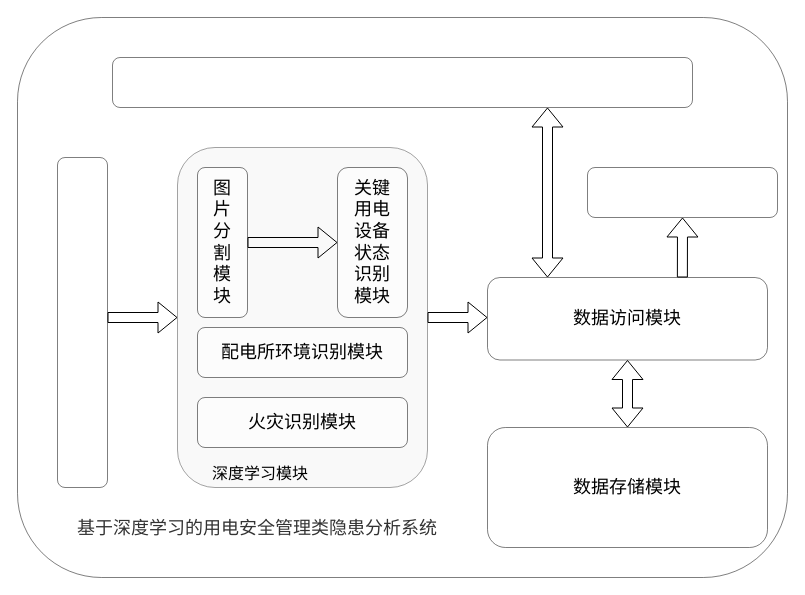
The diagram is 805 pixels wide and 595 high, and some of its shapes have lost their labels. Here are the shapes that lost their labels. From the top down, the centre of each, then its label:
point (402, 82): 用户操作模块
point (682, 192): 告警信息模块
point (82, 322): 数 据 获 取 模 块
